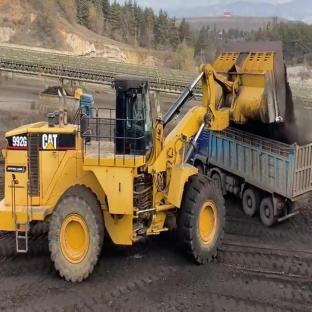ExcavationMachinery: (1, 39, 285, 279)
Vehicle: (194, 129, 312, 237)
